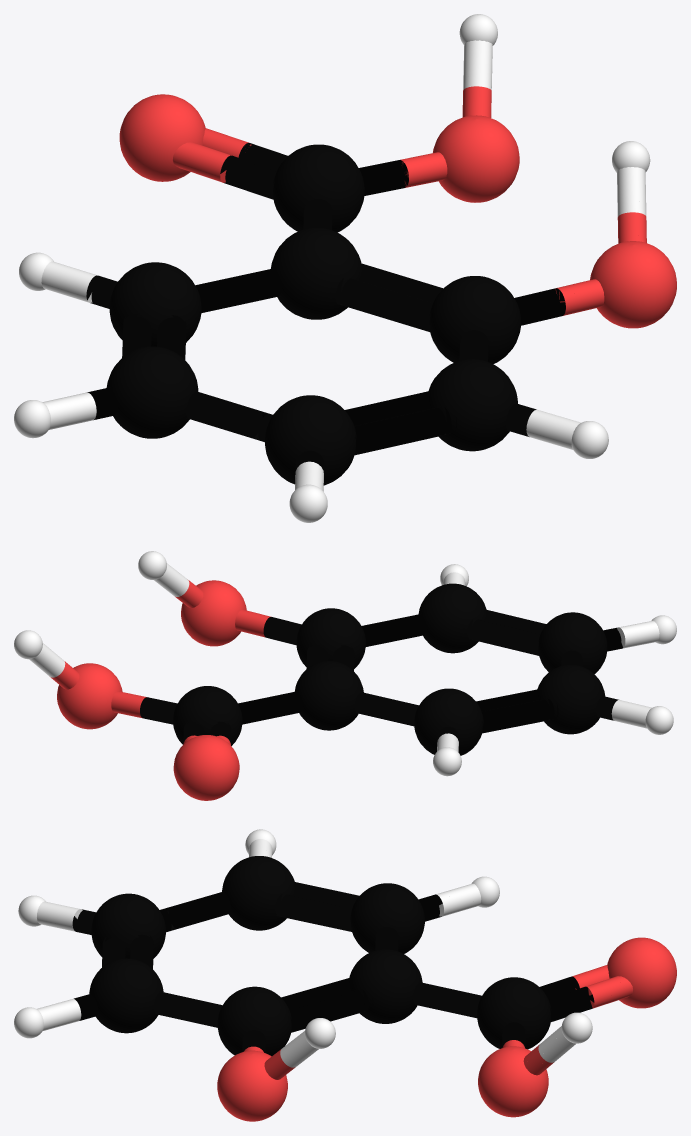
File: 水杨酸.glb
3 views of the same model, one above another, from view 1: azimuth 30°, elevation 25°; view 2: azimuth 150°, elevation 25°; view 3: azimuth 270°, elevation 25° (orthographic). The views are drawn at different scales.
Parts seen in each view (by area): view 1: Carbon_ball.001, Carbon_ball.009, Carbon_ball.005, Carbon_ball.003, Carbon_ball.013, Carbon_ball.007, Oxygen_ball.005, Oxygen_ball.003, Carbon_ball.011, Oxygen_ball.002, Oxygen_ball.004, Oxygen_ball.001 (+6 smaller); view 2: Carbon_ball.009, Oxygen_ball.005, Carbon_ball.001, Carbon_ball.005, Carbon_ball.011, Carbon_ball.003, Carbon_ball.007, Carbon_ball.013, Oxygen_ball.002, Oxygen_ball.004, Oxygen_ball.001, Oxygen_ball.003 (+5 smaller); view 3: Carbon_ball.005, Carbon_ball.009, Carbon_ball.001, Carbon_ball.013, Carbon_ball.011, Carbon_ball.007, Oxygen_ball.001, Oxygen_ball.003, Oxygen_ball.005, Carbon_ball.003, Hydrogen_ball.005, Hydrogen_ball.010 (+5 smaller).
Boxes of the visible parts, x1,y1,x2,y2 form: Carbon_ball.001: [106, 346, 198, 438]; Carbon_ball.009: [271, 227, 362, 319]; Carbon_ball.005: [427, 359, 517, 451]; Carbon_ball.003: [265, 395, 356, 485]; Carbon_ball.013: [273, 144, 364, 232]; Carbon_ball.007: [429, 276, 520, 363]; Oxygen_ball.005: [119, 94, 205, 181]; Oxygen_ball.003: [433, 115, 519, 202]; Carbon_ball.011: [109, 262, 201, 346]; Oxygen_ball.002: [590, 241, 675, 328]; Oxygen_ball.004: [433, 117, 515, 202]; Oxygen_ball.001: [595, 241, 676, 328]; Carbon_ball.009: [295, 661, 363, 730]; Oxygen_ball.005: [173, 735, 239, 800]; Carbon_ball.001: [536, 664, 605, 734]; Carbon_ball.005: [418, 583, 486, 653]; Carbon_ball.011: [414, 688, 483, 755]; Carbon_ball.003: [538, 612, 607, 673]; Carbon_ball.007: [296, 608, 365, 668]; Carbon_ball.013: [173, 686, 242, 745]; Oxygen_ball.002: [186, 582, 246, 646]; Oxygen_ball.004: [68, 664, 122, 729]; Oxygen_ball.001: [181, 580, 242, 646]; Oxygen_ball.003: [57, 663, 107, 728]; Carbon_ball.005: [89, 958, 163, 1033]; Carbon_ball.009: [348, 949, 422, 1023]; Carbon_ball.001: [222, 856, 295, 930]; Carbon_ball.013: [477, 977, 551, 1049]; Carbon_ball.011: [350, 883, 424, 953]; Carbon_ball.007: [217, 986, 292, 1056]; Oxygen_ball.001: [217, 1050, 287, 1121]; Oxygen_ball.003: [478, 1046, 548, 1117]; Oxygen_ball.005: [607, 937, 676, 1008]; Carbon_ball.003: [91, 893, 165, 958]; Hydrogen_ball.005: [14, 1007, 43, 1038]; Hydrogen_ball.010: [304, 1018, 335, 1048].
Bounding box in the file's own units: 6.49 × 1.46 × 6.82.
